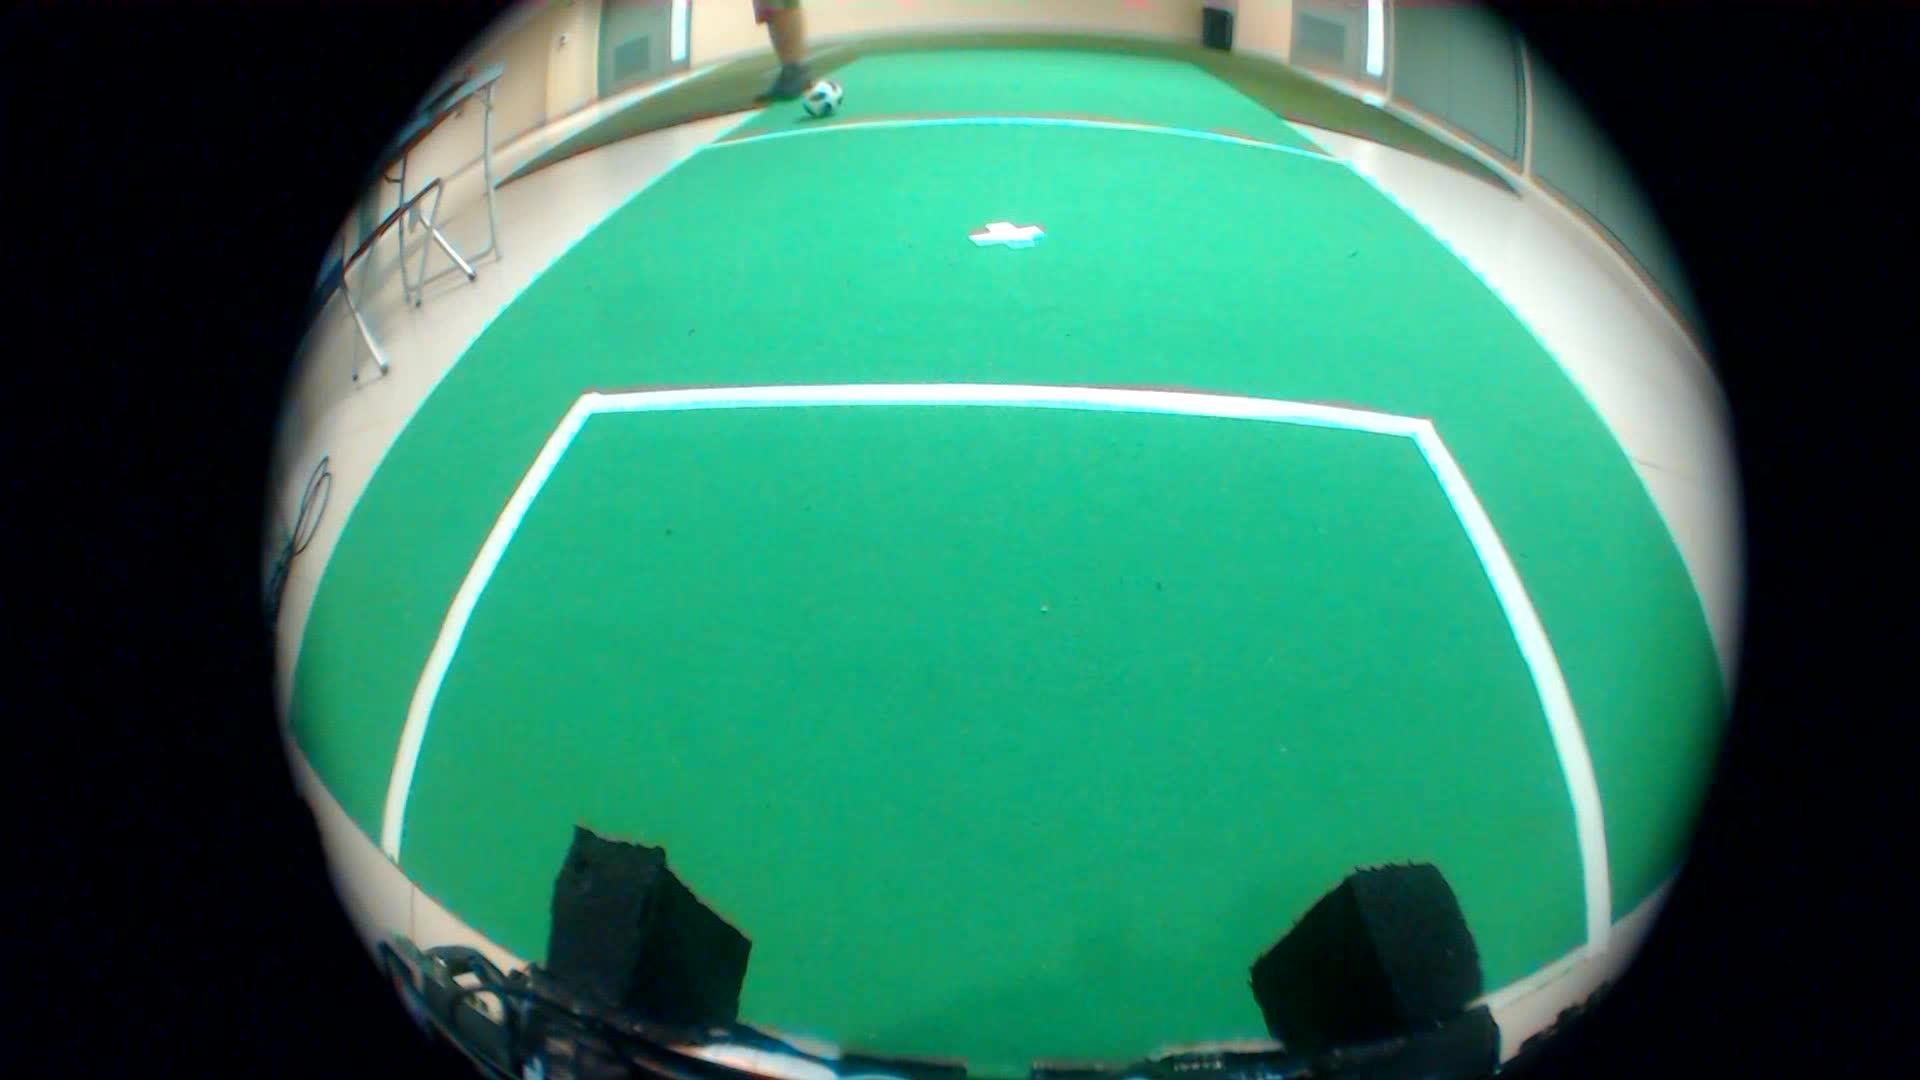ball: (800, 76, 849, 127)
